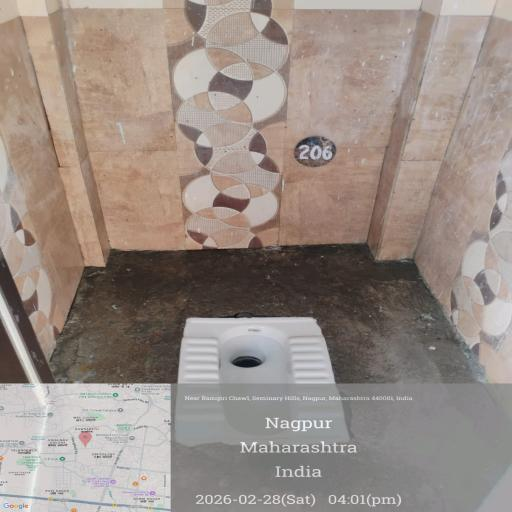clean_floor: (18, 236, 512, 512), (31, 14, 427, 236)
clean_indian: (156, 302, 411, 491)
